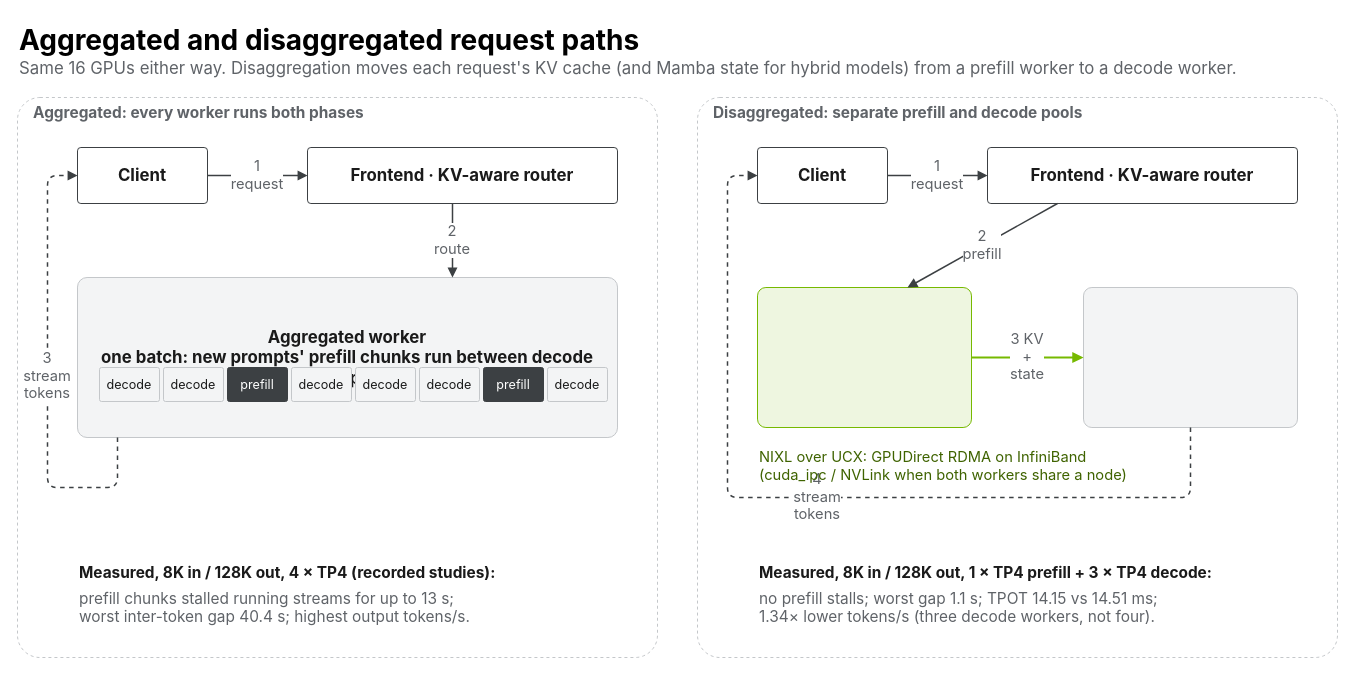
The diagram is 1355 pixels wide and 675 high, and some of its shapes have lost their labels. The shapes that lost their labels are listed below. From the top down, each one's centre as x and y in pixels, then its label:
pixel 864 357: Prefill worker computes the prompt's KV cache and Mamba state
pixel 1190 357: Decode worker generates tokens; never runs prefill
